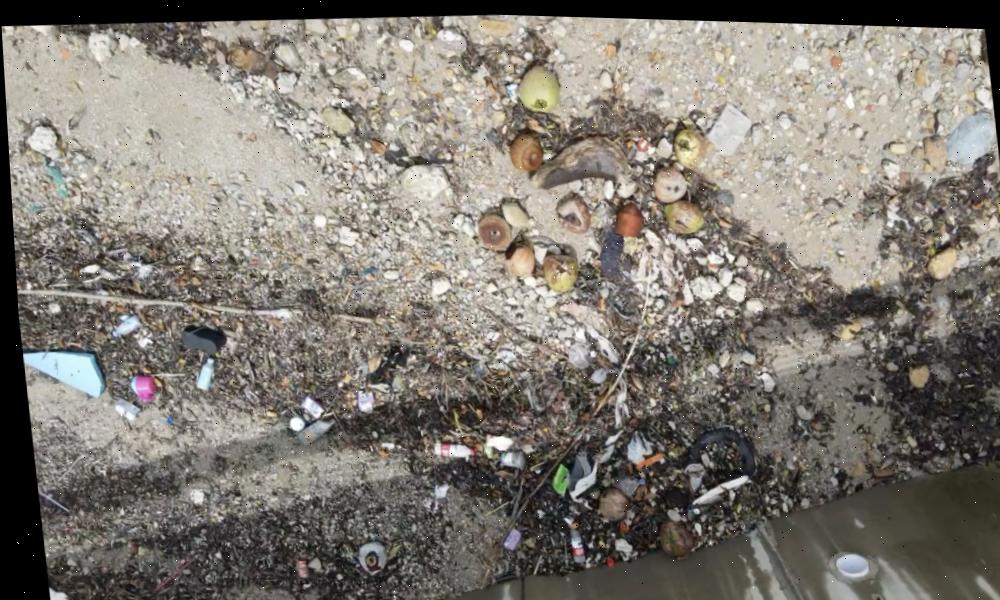plastic bag: (929, 100, 999, 172)
plastic bottle: (425, 435, 469, 458), (560, 514, 581, 562), (192, 355, 212, 391), (107, 314, 135, 335)
plastic container: (696, 98, 760, 154)
